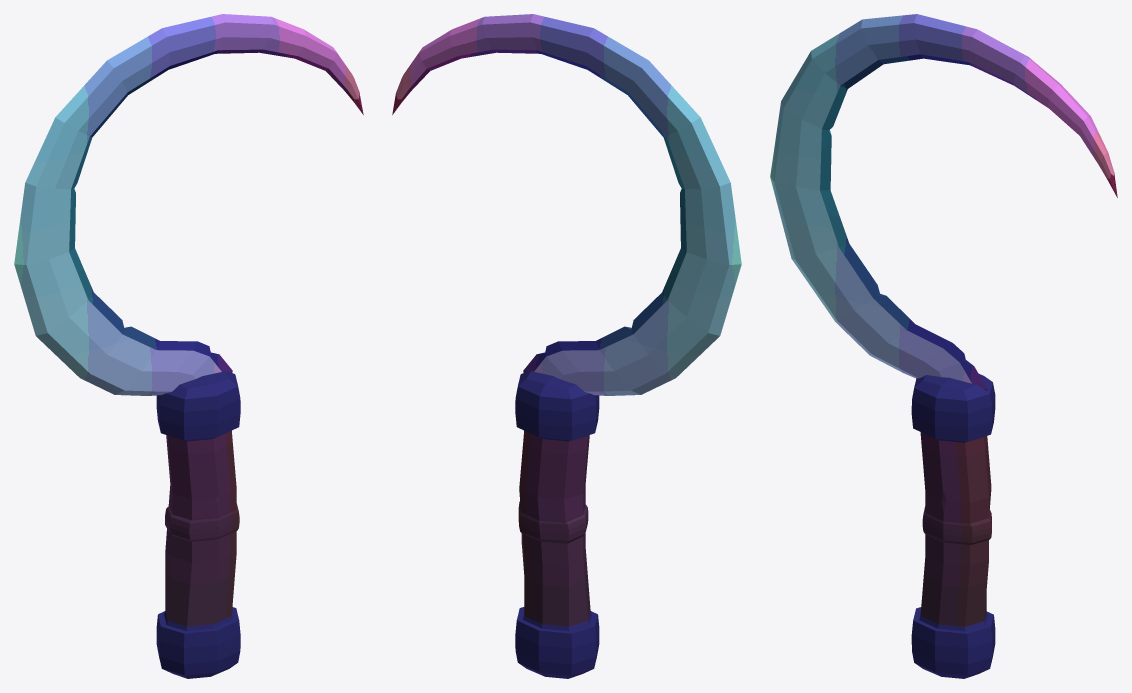
The model's file is Moon Sickle Detailed.fbx.
3 views of the same model, side by side, from view 1: azimuth 30°, elevation 25°; view 2: azimuth 150°, elevation 25°; view 3: azimuth 330°, elevation 25° (orthographic).
Visible parts, largest first — view 1: Moon Sickle Detailed; view 2: Moon Sickle Detailed; view 3: Moon Sickle Detailed.
Part boxes in pixels (bbox=[...]): Moon Sickle Detailed: bbox=[14, 14, 363, 678]; Moon Sickle Detailed: bbox=[392, 14, 741, 678]; Moon Sickle Detailed: bbox=[770, 14, 1117, 678].
Size of the model in its own units: 0.294 by 0.5235 by 0.0549.
